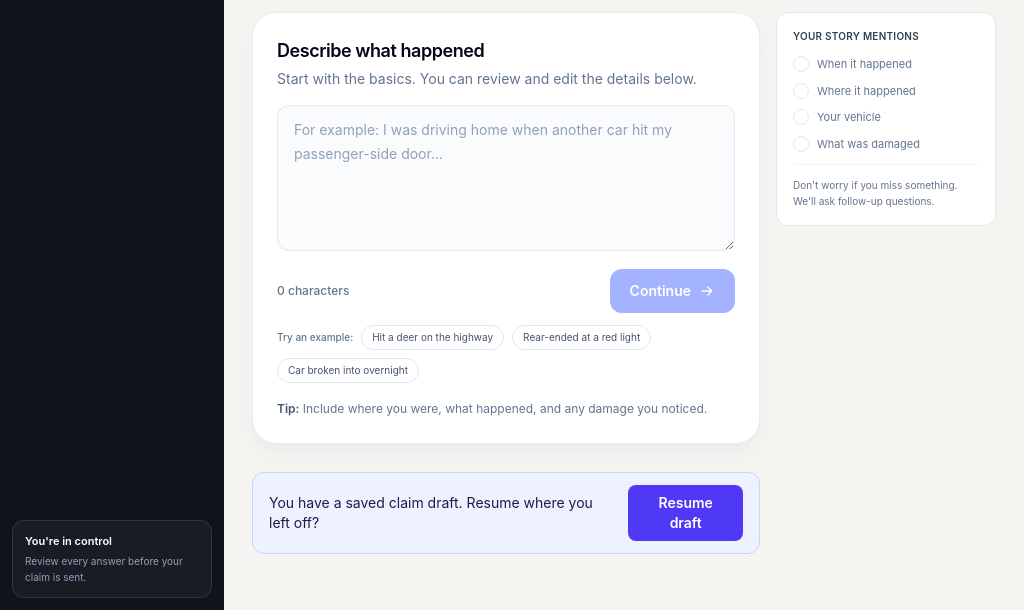
Test: ClaimPage draft and submission flow › offers a recent draft and hydrates the form when resumed
(page scrolled)
Click the button "Resume draft" at {"x": 686, "y": 513}, box [628, 485, 743, 541]
(page scrolled)
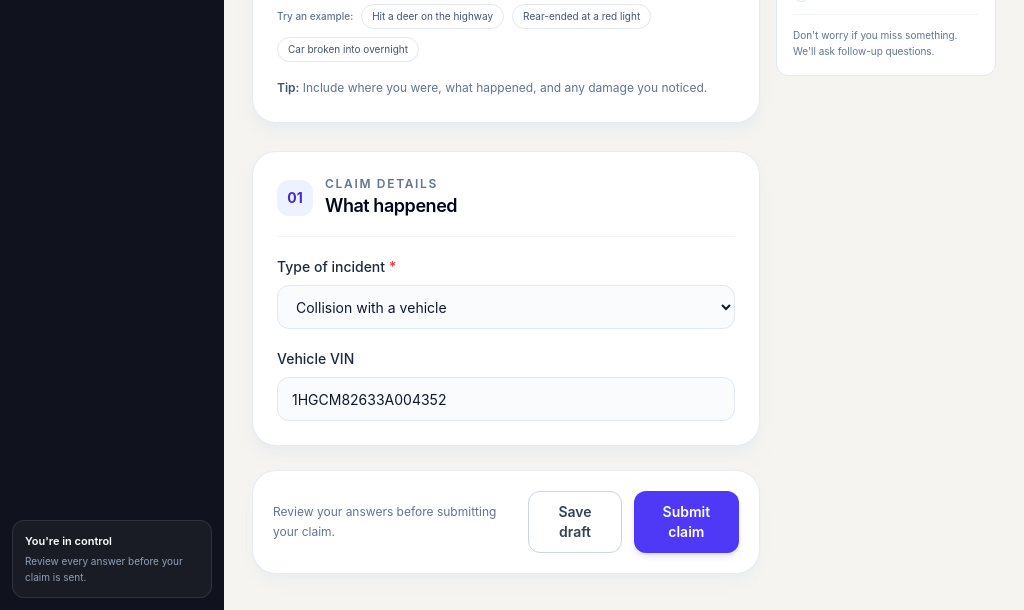
Now the dropdown labelled "Type of incident" shows "Collision with a vehicle", box [277, 285, 735, 329]
Now the field labelled "Vehicle VIN" holds "1HGCM82633A004352", box [277, 377, 735, 421]
